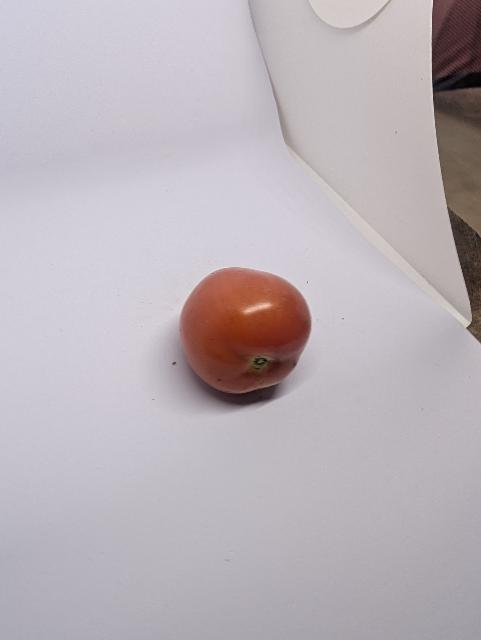red: (171, 260, 329, 406)
